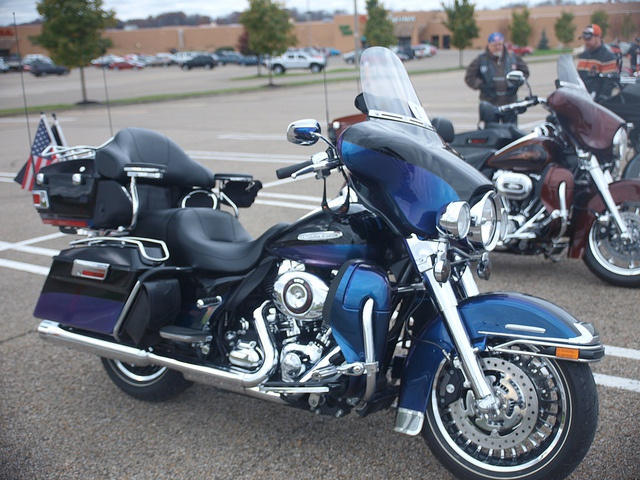non-vehicle: (32, 46, 604, 479), (327, 52, 639, 286)
